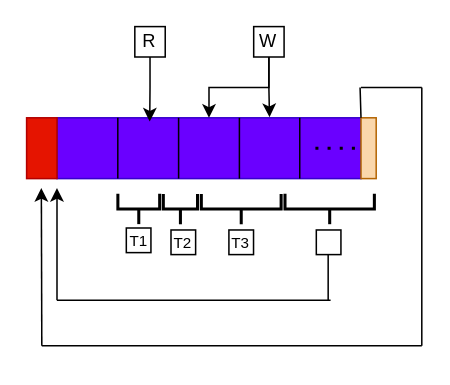
The diagram is 450 pixels wide and 385 high, and some of its shapes have lost their labels. Each missing label, with the centre of its shape:
"0th" belongs at pixel 41 147.
"T4" belongs at pixel 328 241.
